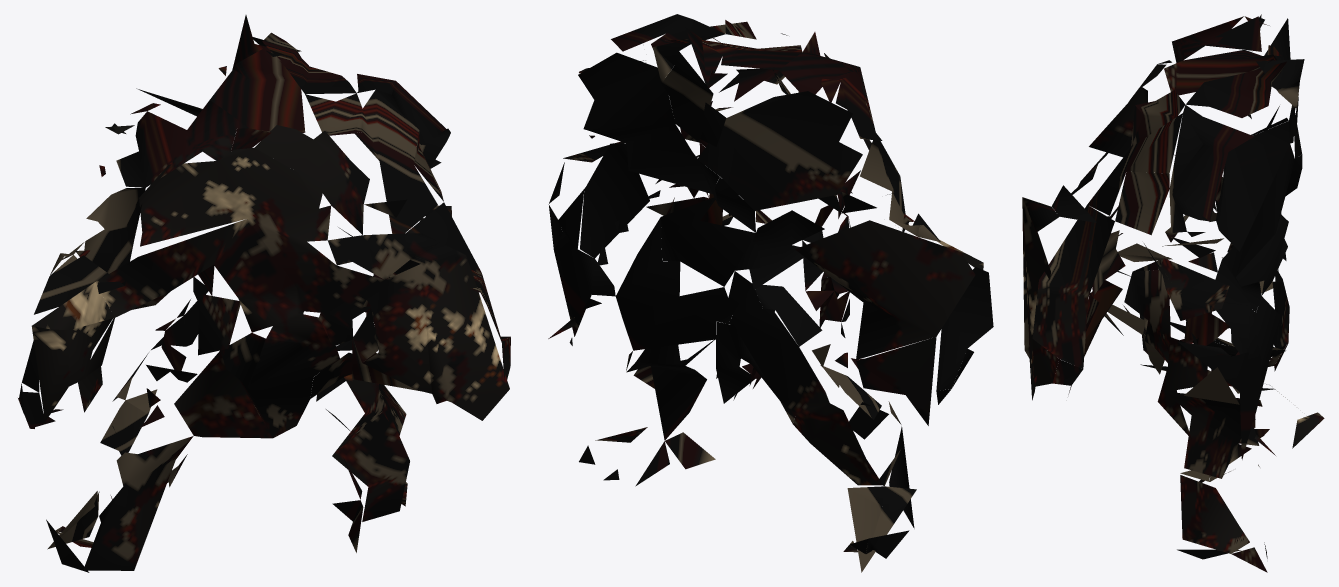
3 views of the same model, side by side, from view 1: azimuth 30°, elevation 25°; view 2: azimuth 150°, elevation 25°; view 3: azimuth 270°, elevation 25° (orthographic). The views are drawn at different scales.
Parts seen in each view (by area): view 1: body.002; view 2: body.002; view 3: body.002.
Part boxes in pixels (x1,y1,x2,y2): body.002: (18, 15, 510, 572); body.002: (548, 14, 993, 572); body.002: (1022, 14, 1324, 572).
Size of the model in its own units: 1.96 by 2.12 by 1.16.
Materials: 1 (1 with a texture image).
